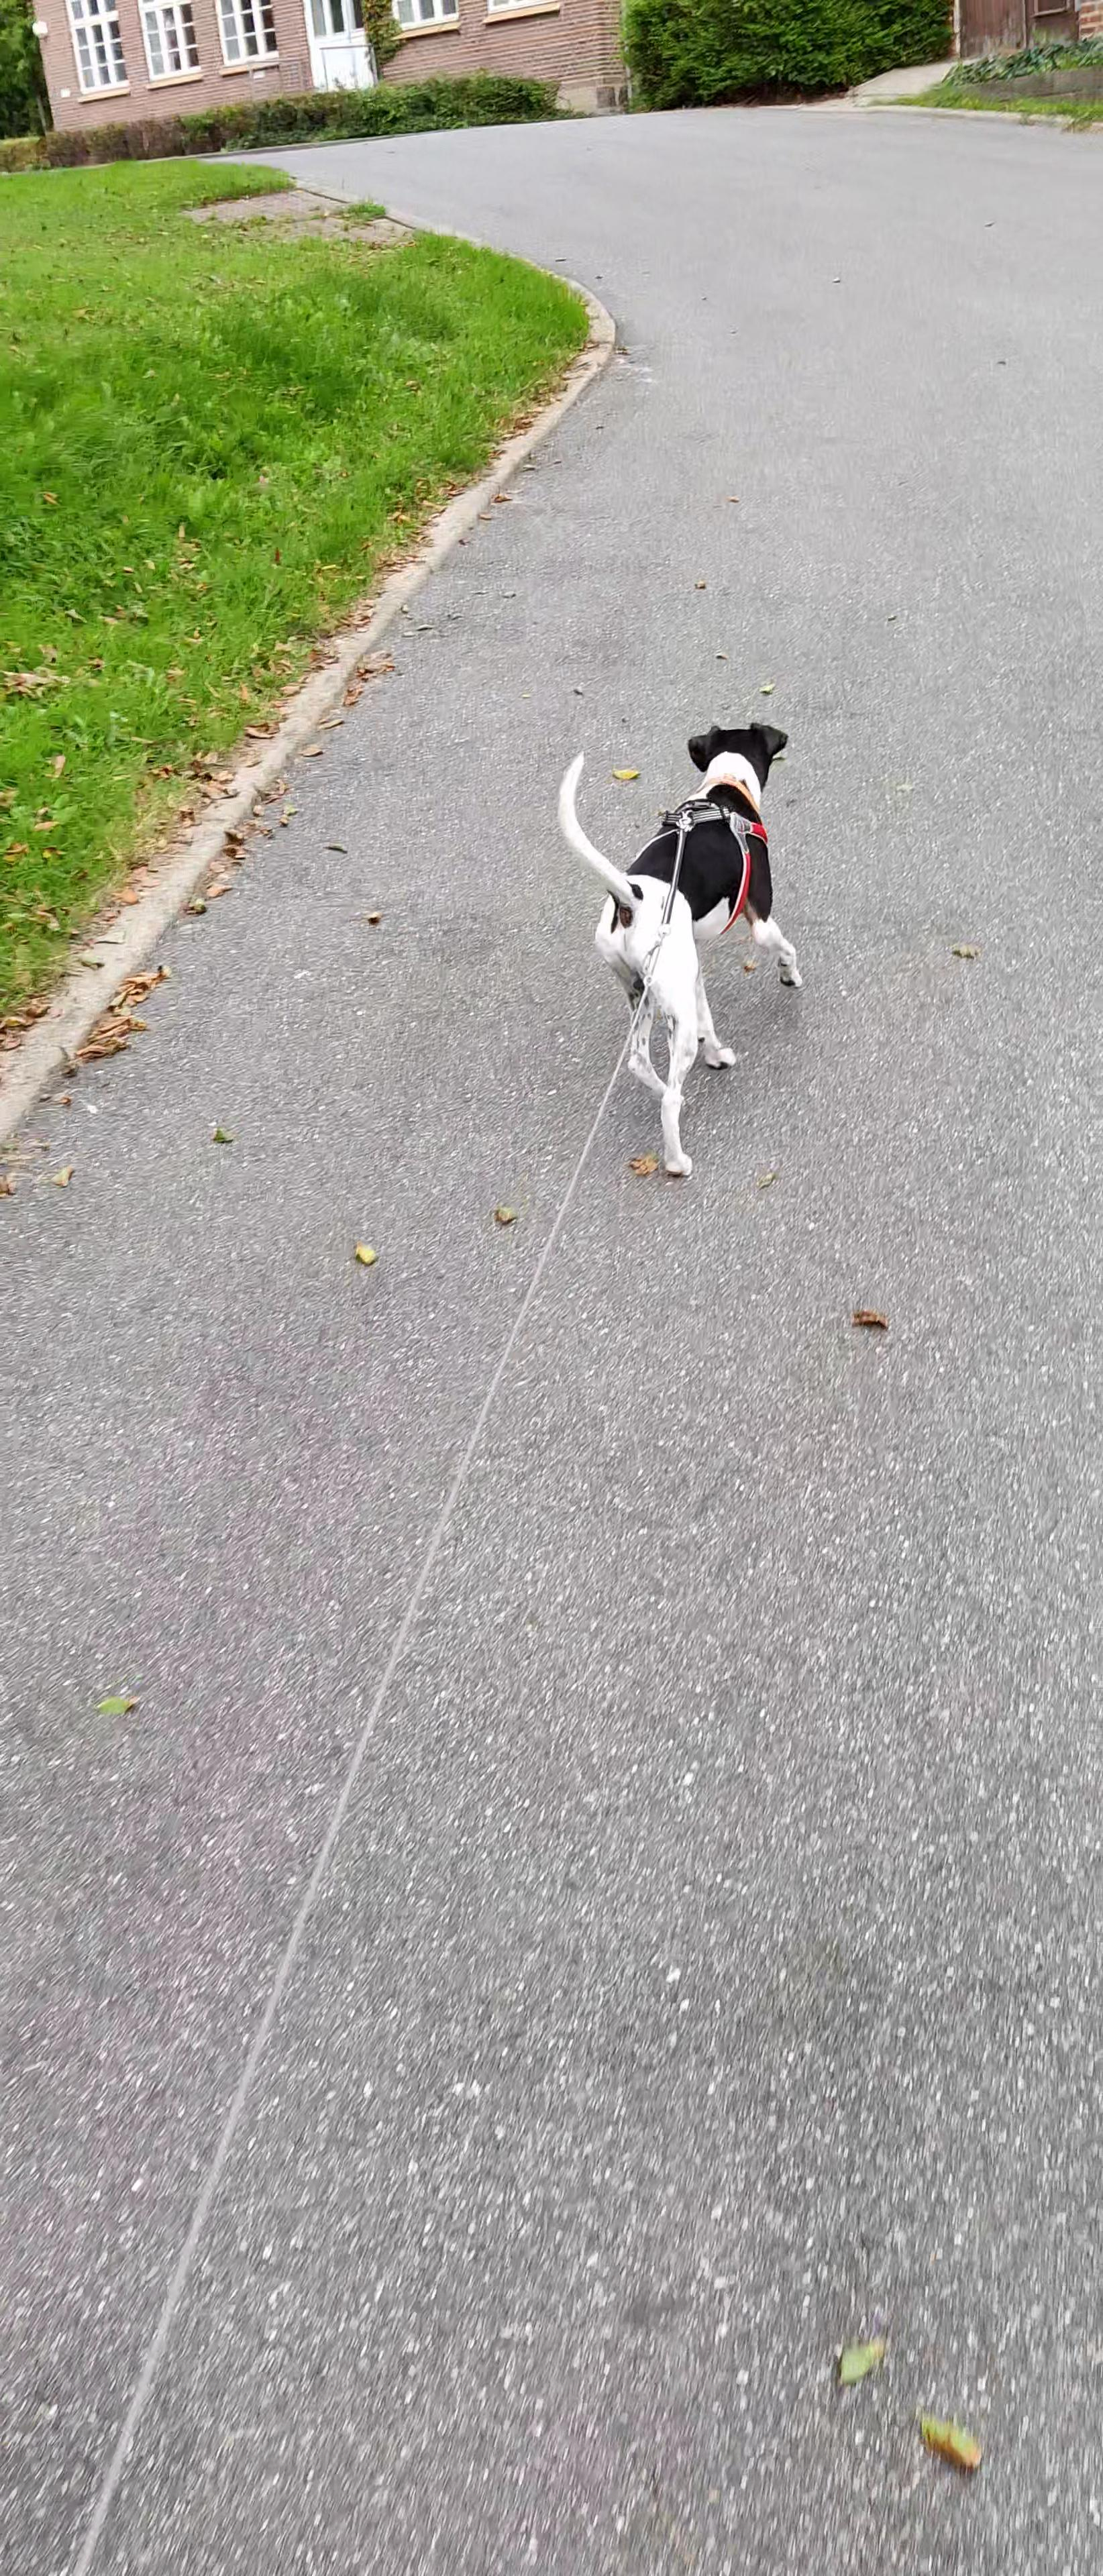Dog: (549, 718, 810, 1184)
